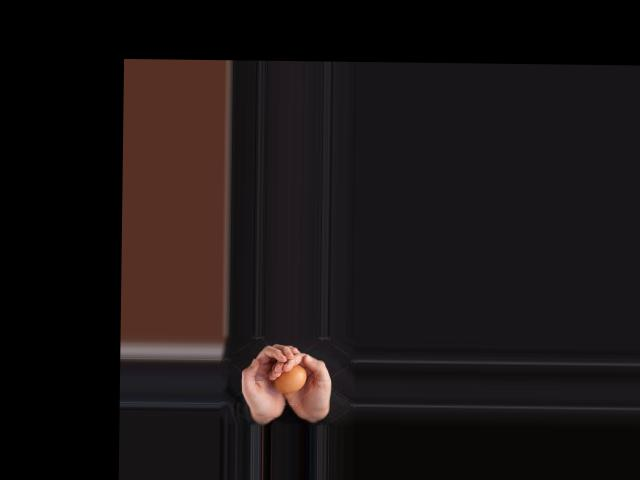egg: (272, 365, 306, 394)
